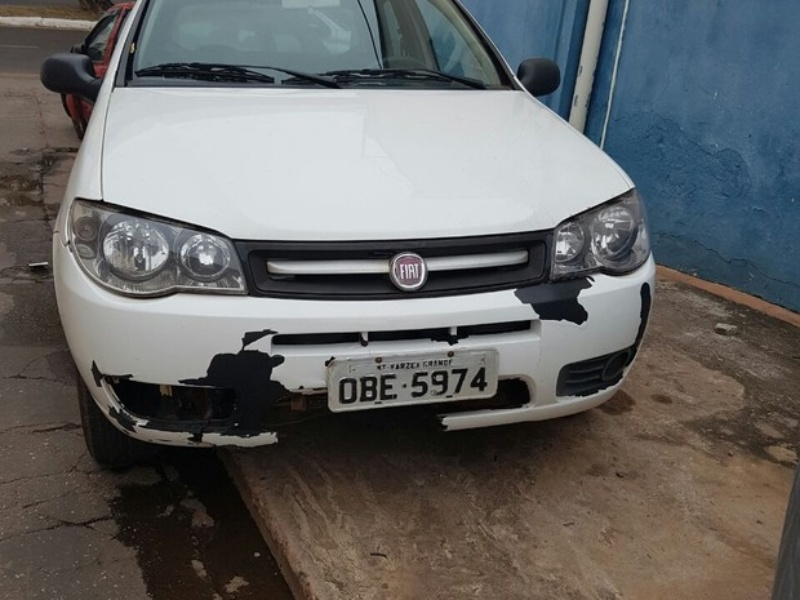placa: (326, 356, 499, 412)
